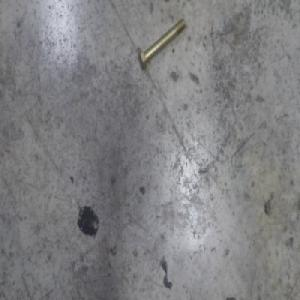Bolt: (137, 17, 187, 70)
